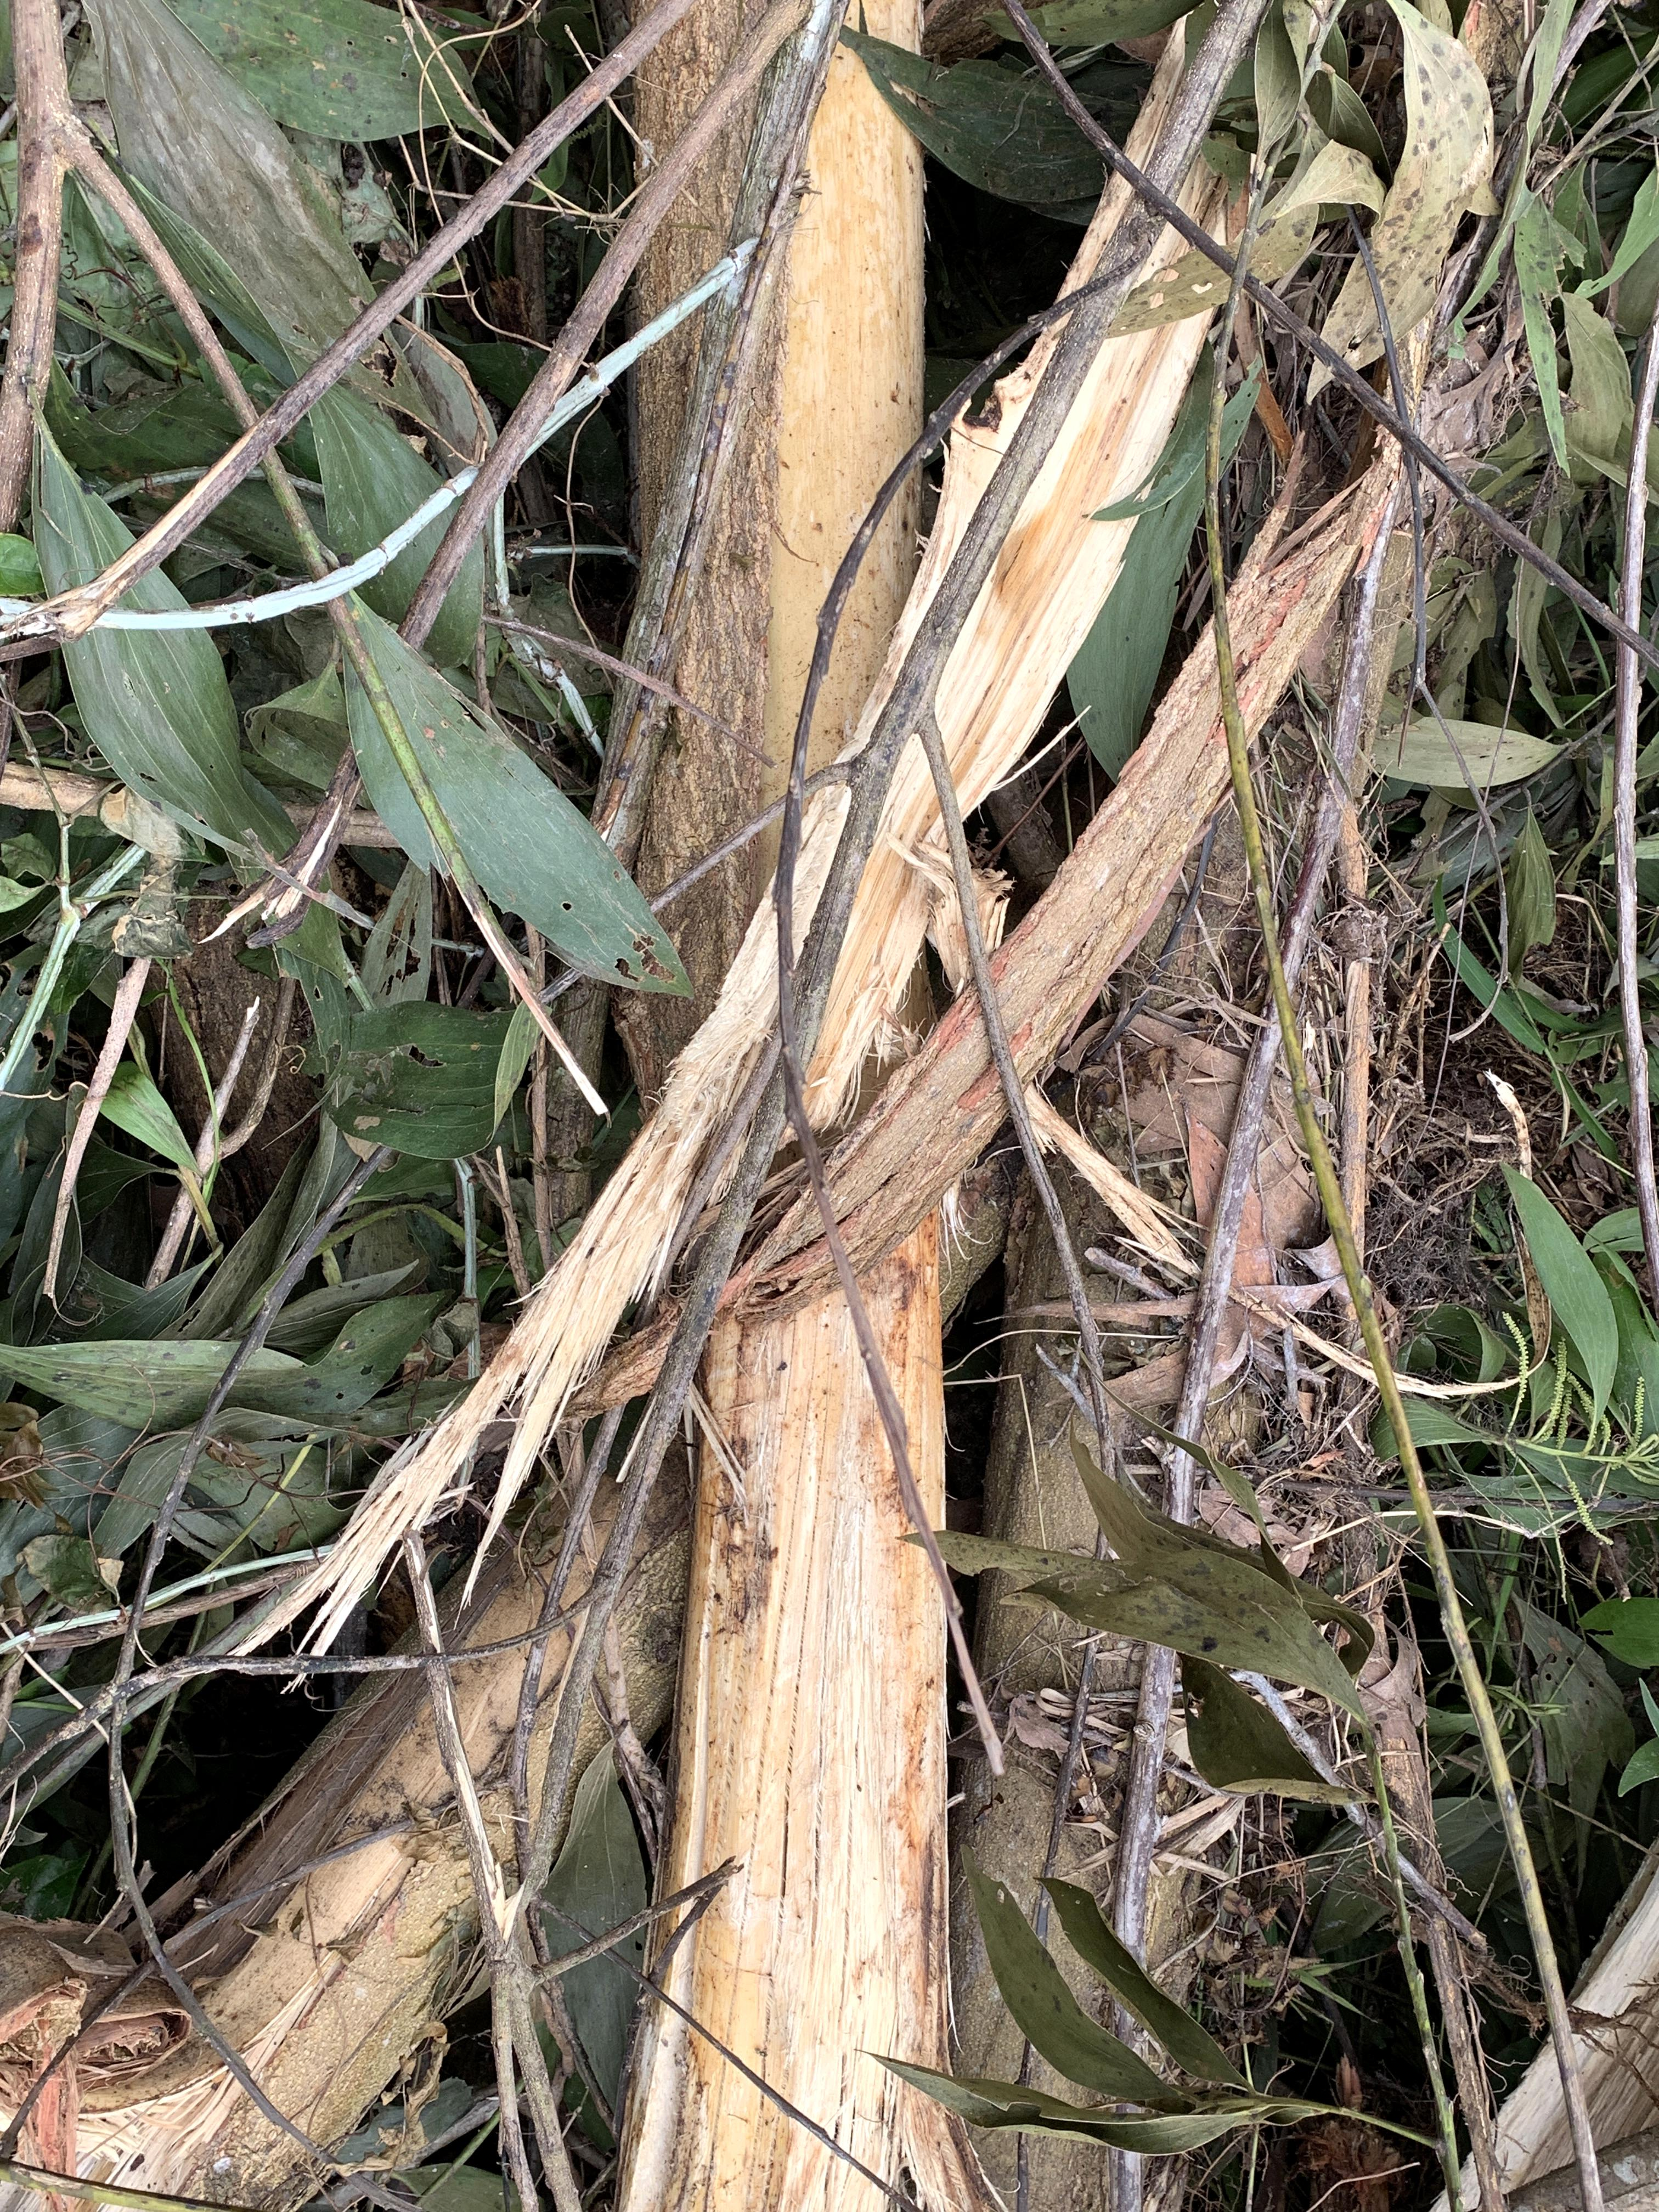Mammals Attack: (640, 42, 955, 2202)
